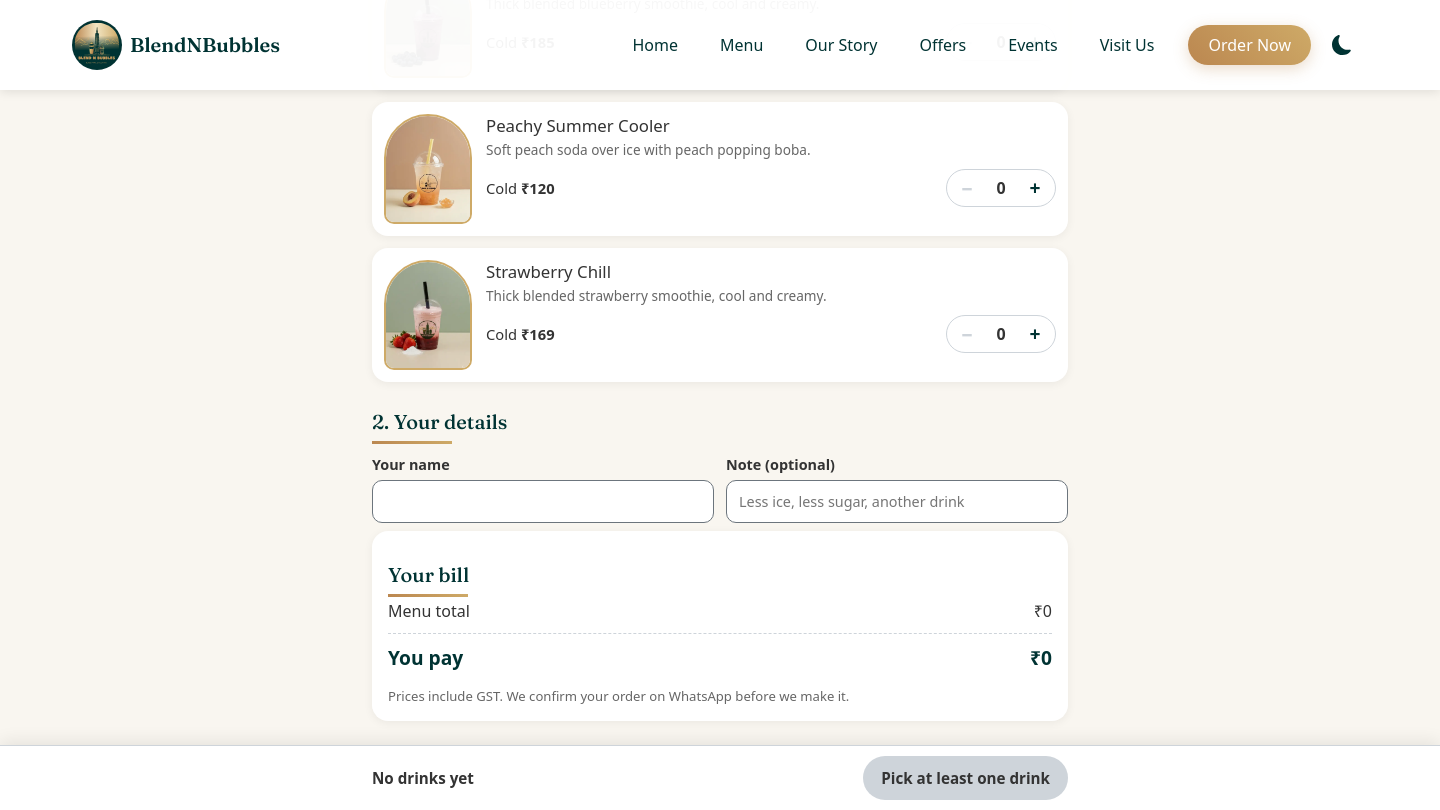
it: partner order page › removing the last drink takes the send link away again
The image size is (1440, 810).
(page scrolled)
Type "Priya" into the field labelled "Your name". click: [543, 501]
box: [372,480,714,523]
(page scrolled)
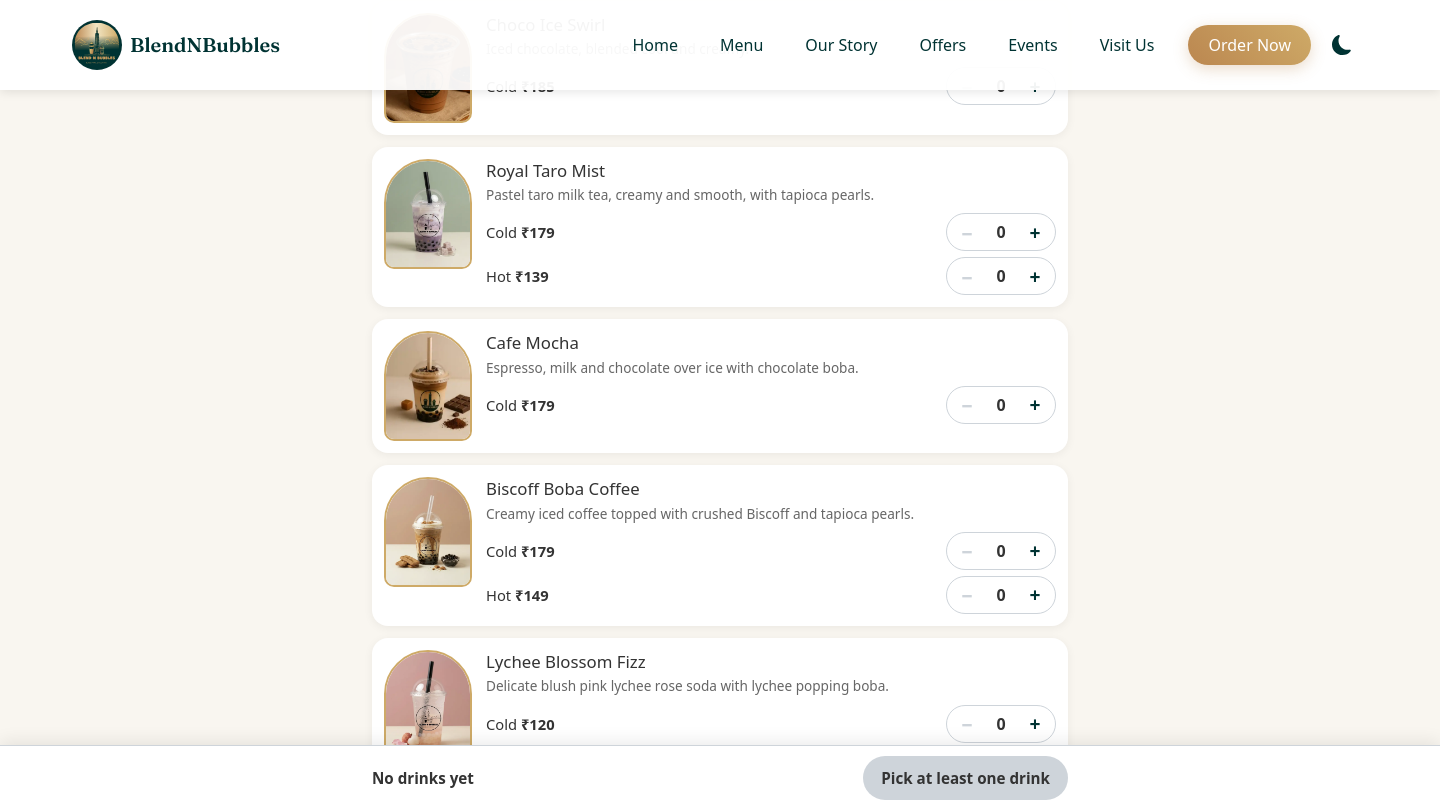
Click the button named "Add one Cafe Mocha cold". click: [1035, 405]
box: [1015,387,1055,423]
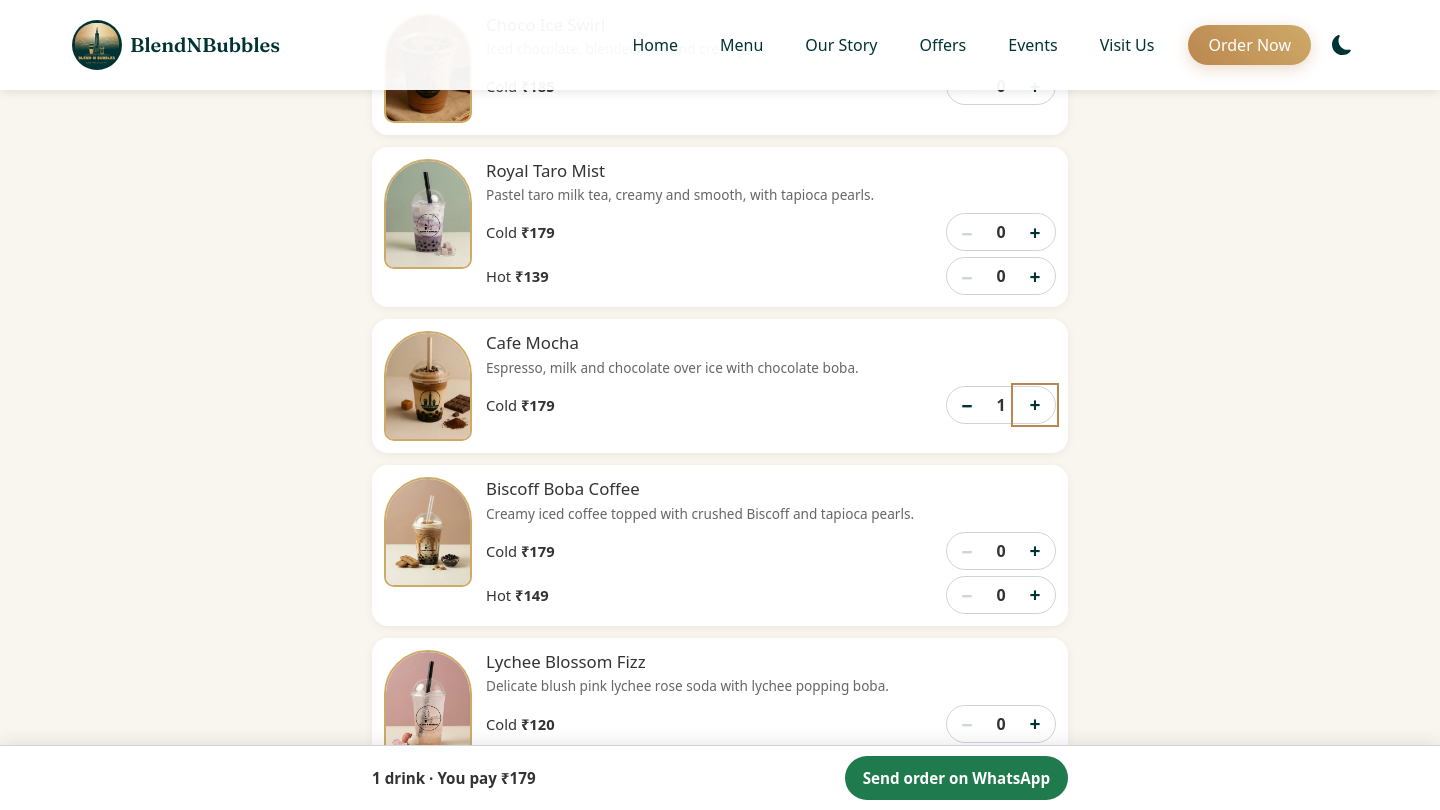
Result: the link "Send order on WhatsApp" is shown at [845,755,1068,800]
Click the button named "Remove one Cafe Mocha cold". click: [967, 405]
box: [947,387,987,423]
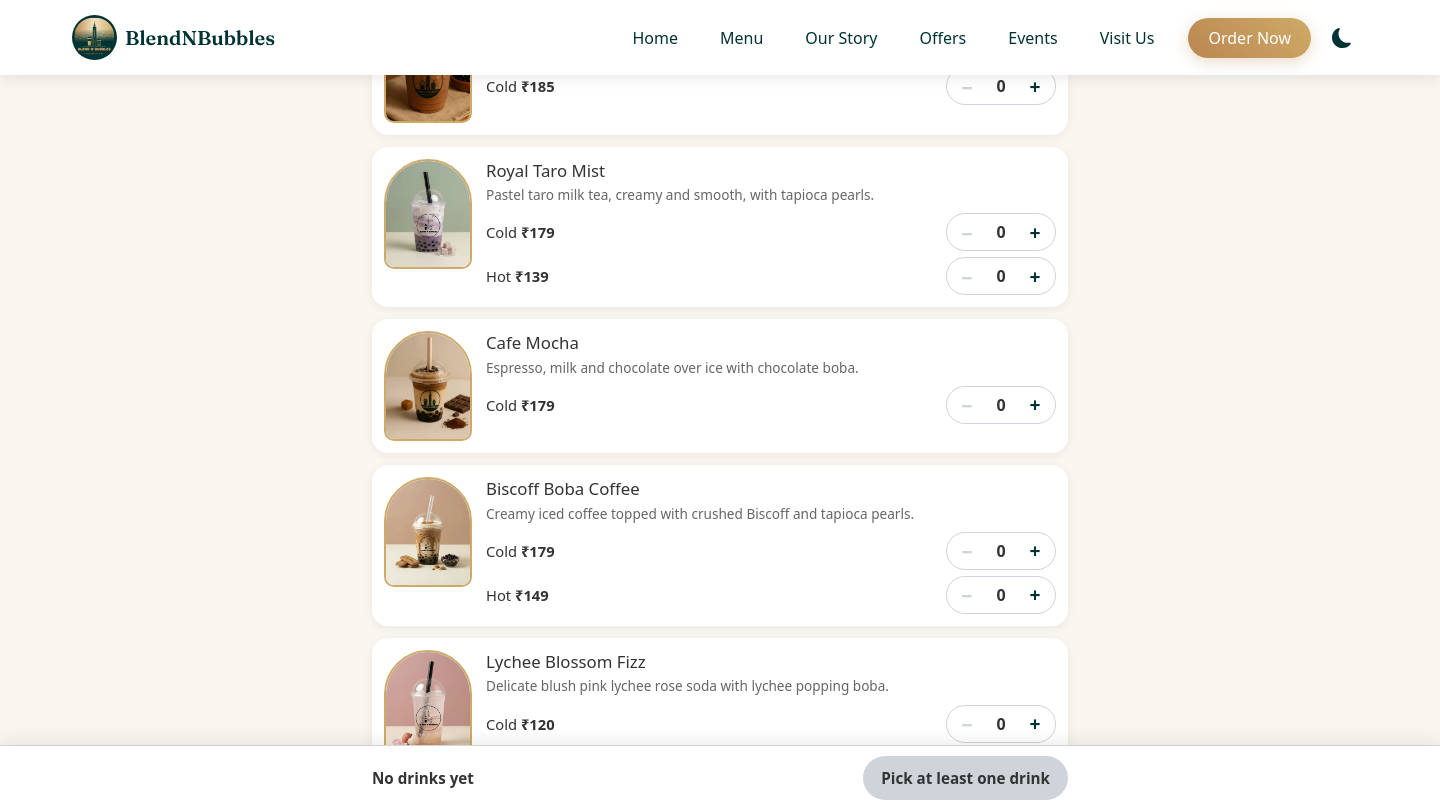
Result: the button "Pick at least one drink" is disabled at [863,755,1068,800]
